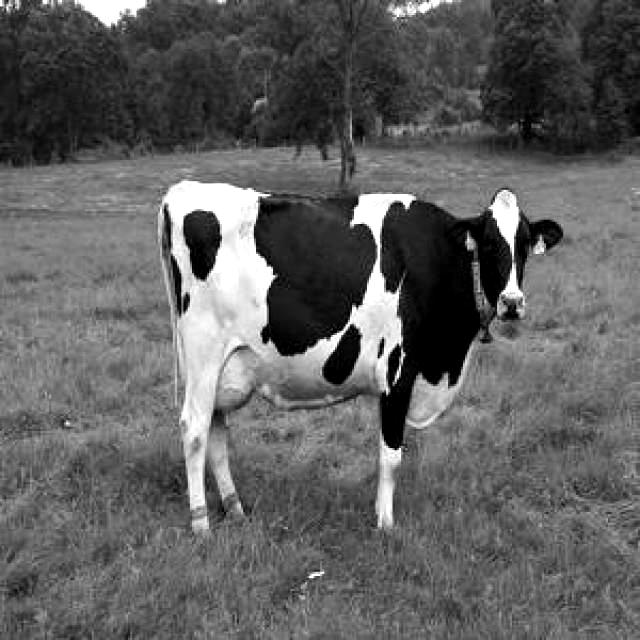COW: (159, 181, 562, 531)
